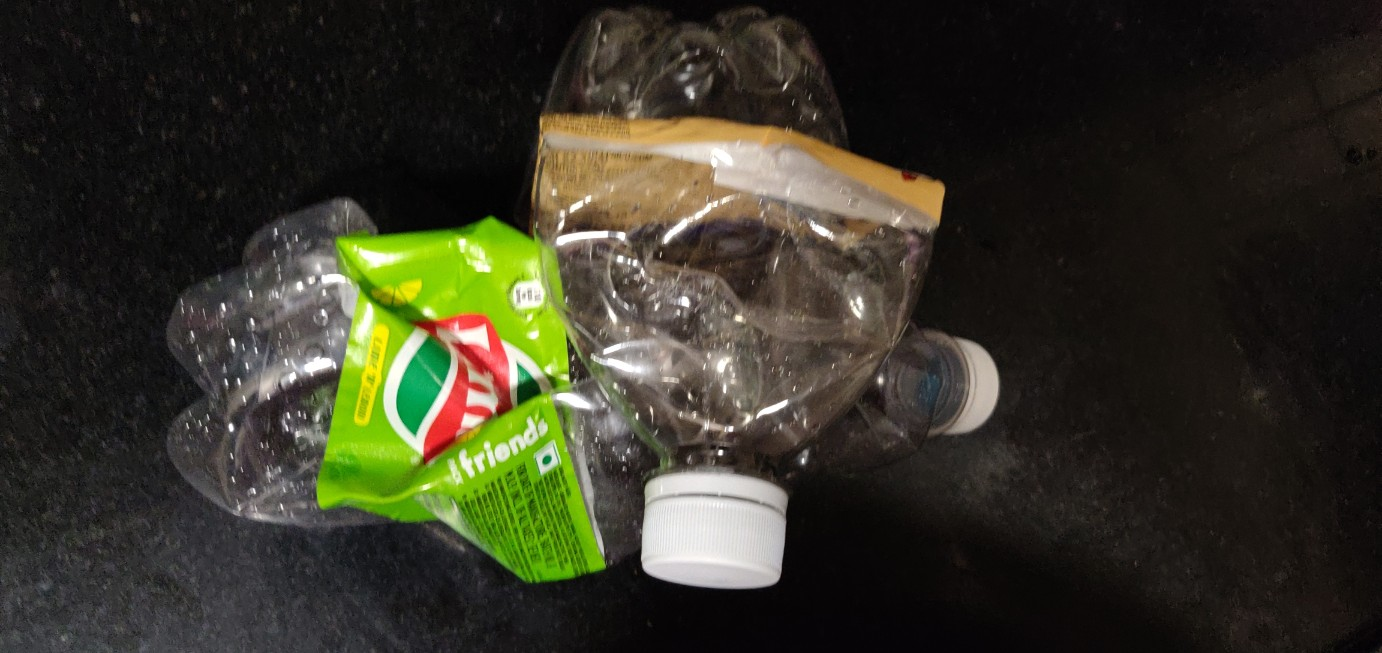Electronics: (129, 162, 1042, 576), (502, 1, 987, 623)
